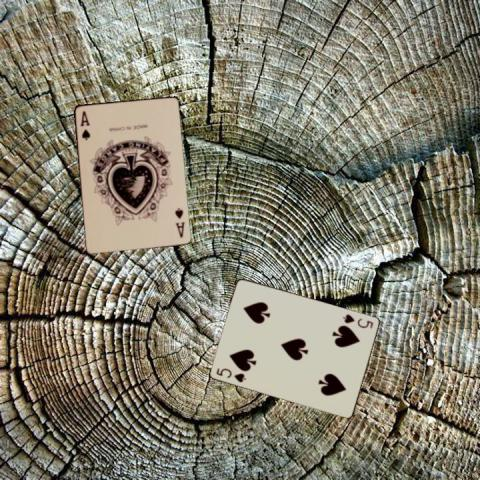5s: (340, 311, 375, 329), (213, 365, 248, 383)
As: (78, 108, 92, 141), (172, 205, 185, 238)
